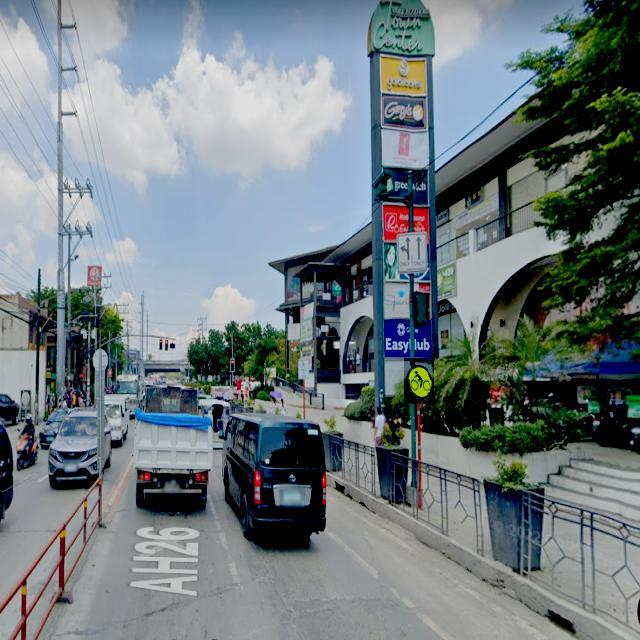bike lane: (404, 358, 434, 404)
